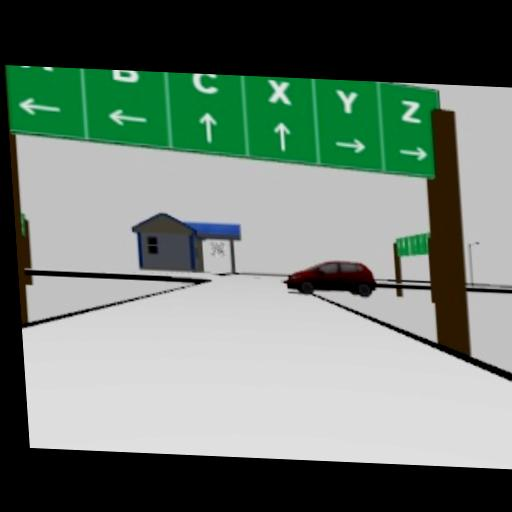A: (19, 65, 56, 70)
B: (110, 69, 137, 82)
C: (191, 72, 217, 91)
Left: (17, 96, 60, 114), (109, 107, 147, 126)
Right: (333, 137, 366, 153), (398, 145, 428, 159)
Straight: (198, 111, 221, 141), (273, 120, 293, 151)
X: (268, 79, 291, 105)
Y: (334, 91, 362, 114)
Z: (401, 99, 421, 123)
